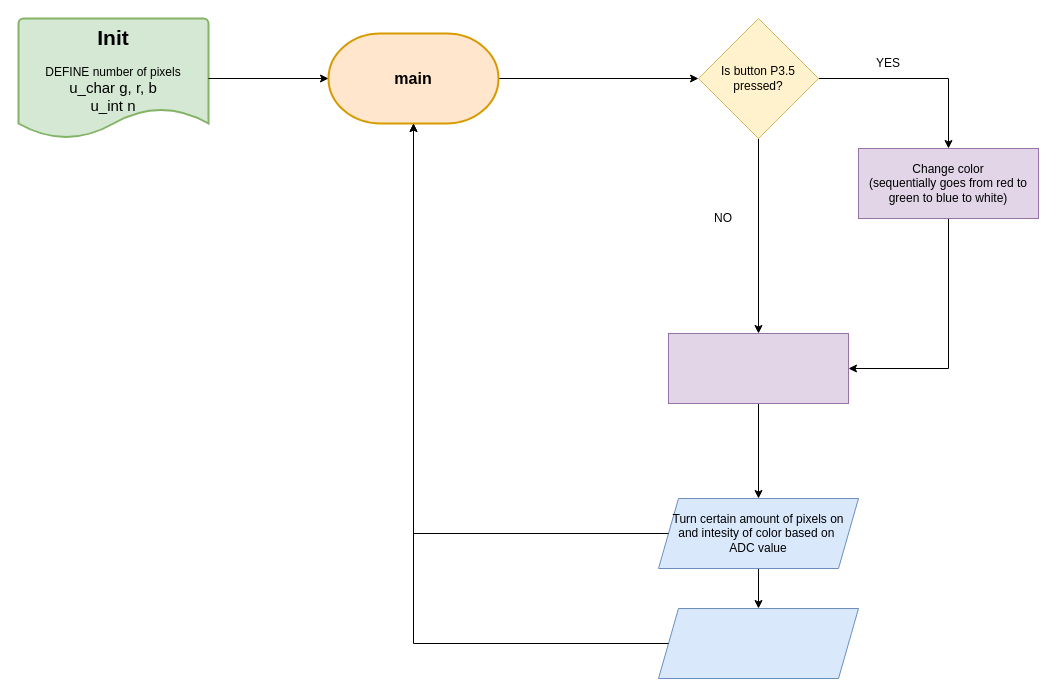
Some shapes in this 1056 by 696 pixel diagram are drawn without their labels. The centre of each missing label's shape, as x and y in pixels:
"Change LEDbar pattern period" goes at [758,643].
"Read ADC value" goes at [758,368].
